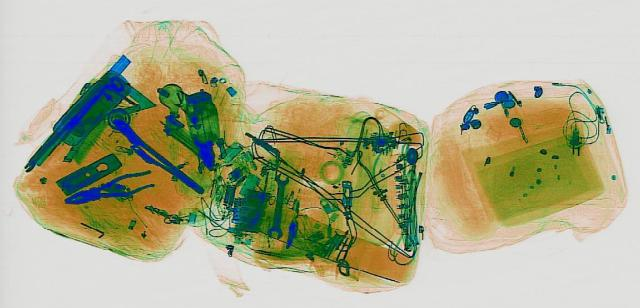Pliers: (52, 166, 166, 207)
Wrench: (264, 173, 290, 236)
